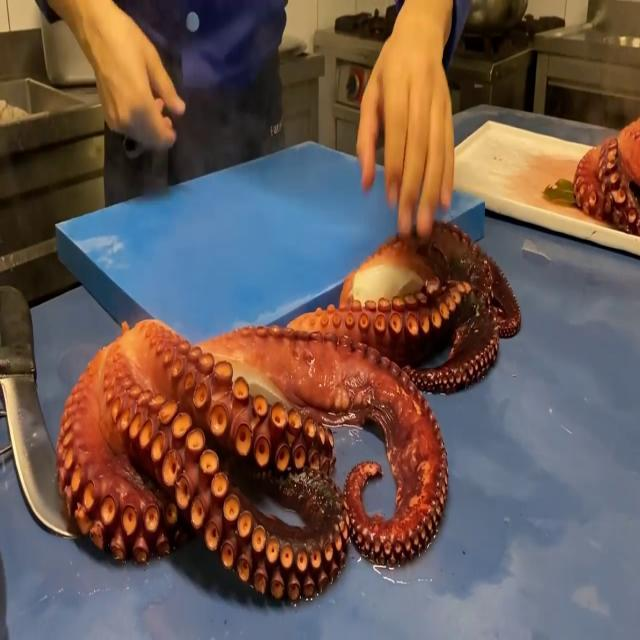octopus: (49, 317, 447, 614), (284, 218, 522, 398)
